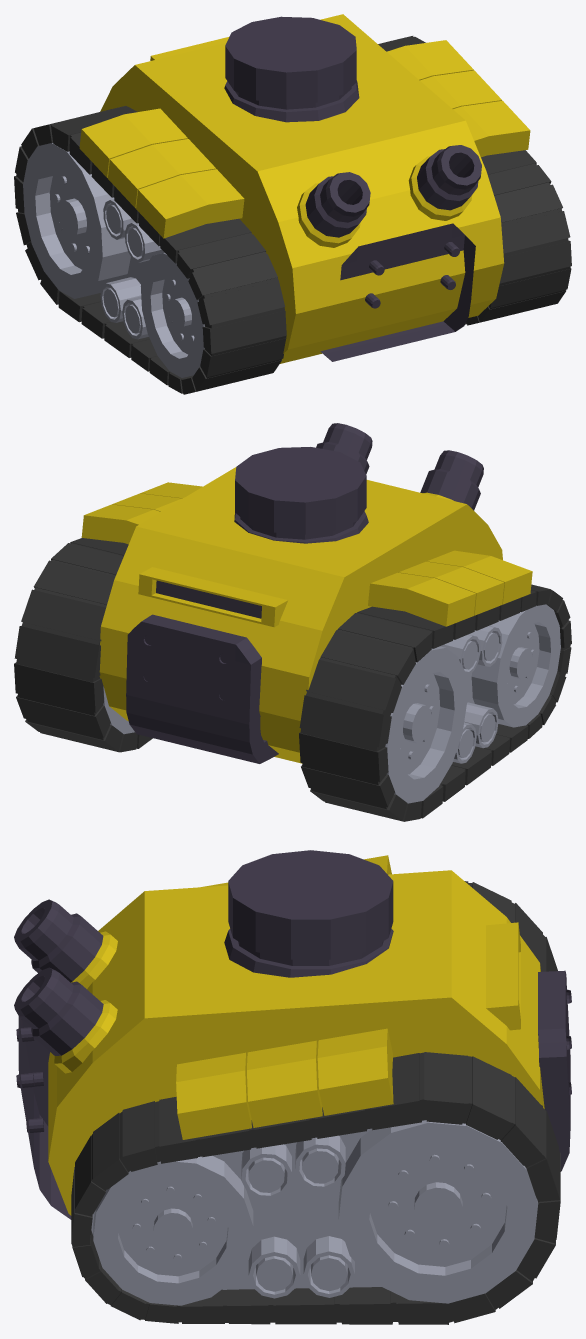
Rendered from body.gltf.
3 renders of one model, top to bottom at view 1: azimuth 30°, elevation 25°; view 2: azimuth 150°, elevation 25°; view 3: azimuth 270°, elevation 25°, orthographic. The views are drawn at different scales.
Parts seen in each view (by area): view 1: Body; view 2: Body; view 3: Body.
Boxes of the visible parts, left/top/right/bottom form: Body: left=14, top=14, right=571, bottom=394; Body: left=14, top=423, right=571, bottom=821; Body: left=14, top=850, right=571, bottom=1324.
Size of the model in its own units: 6.95 by 4.71 by 7.31.
